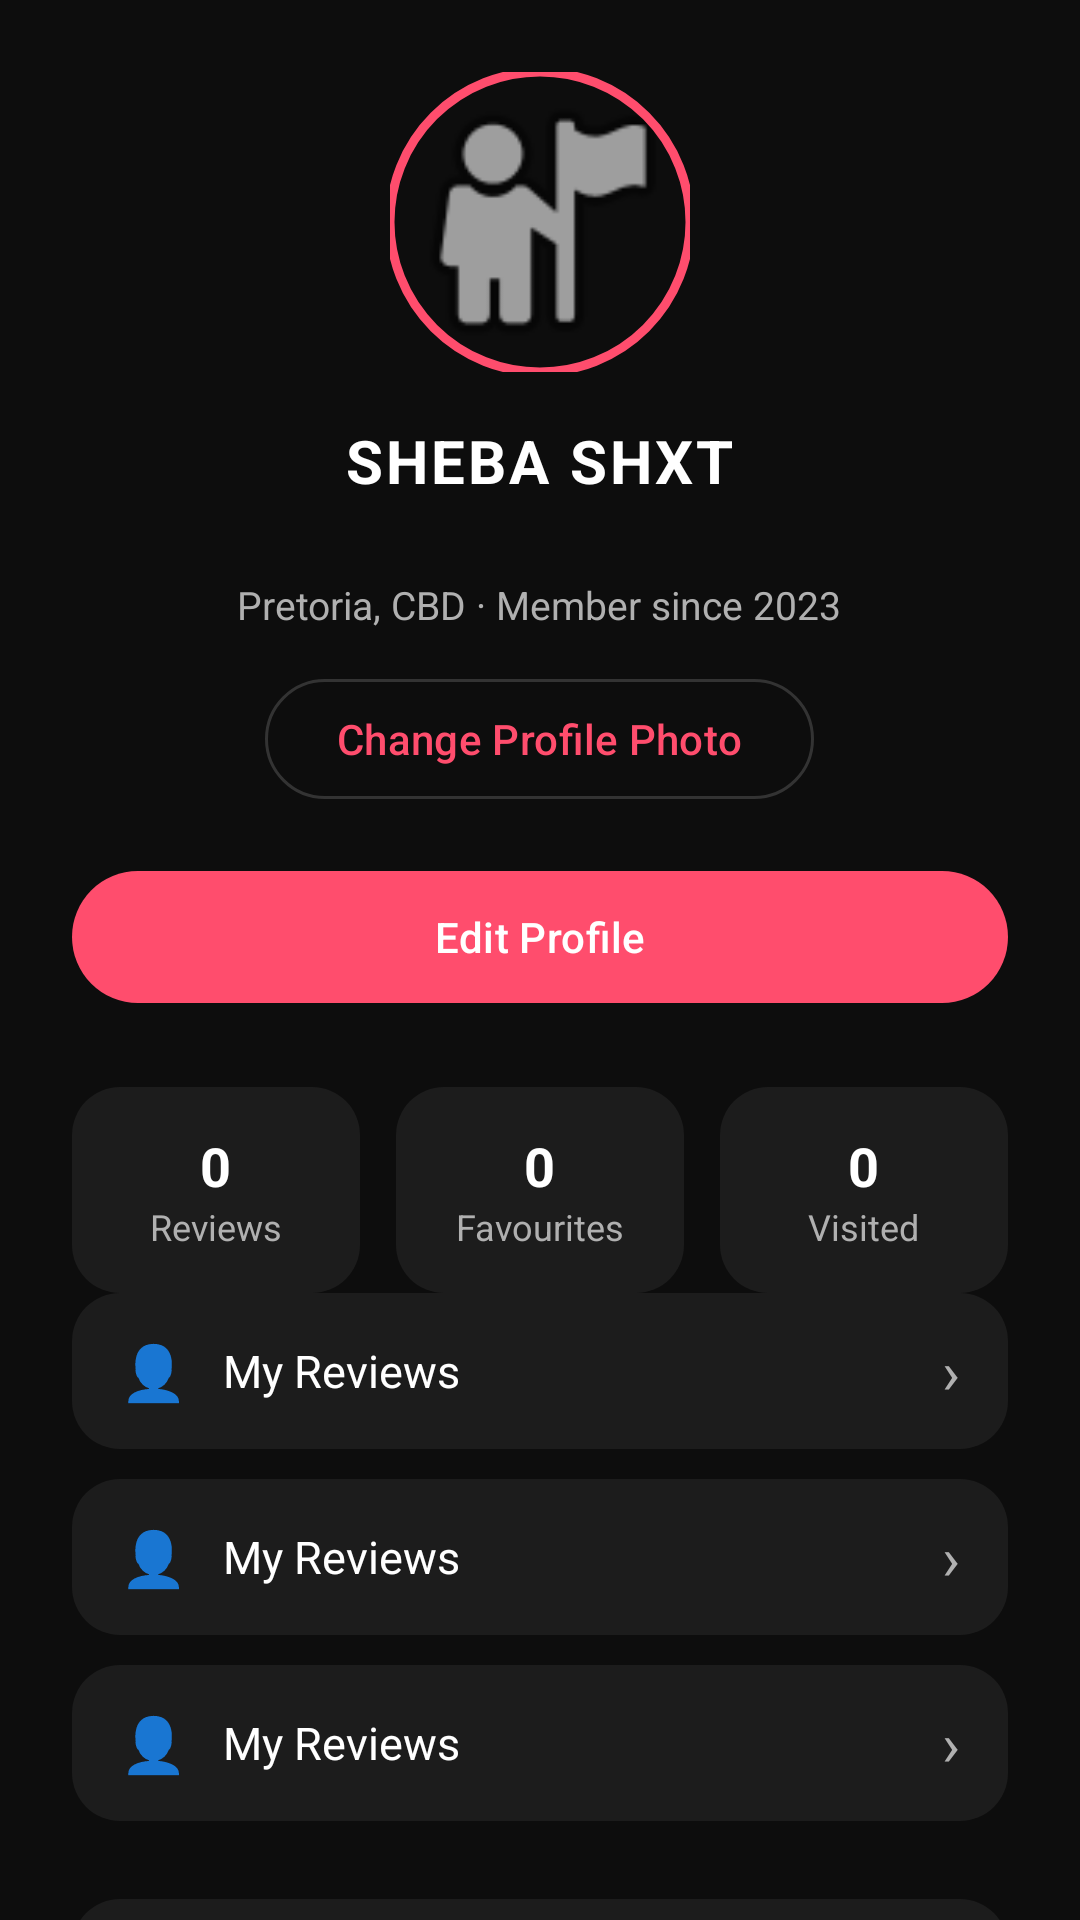

Locate icon controls on the screen. Image size 1080*1920, boxes as region(x1, y1, x2, y2).
myplaces: region(390, 72, 690, 372)
